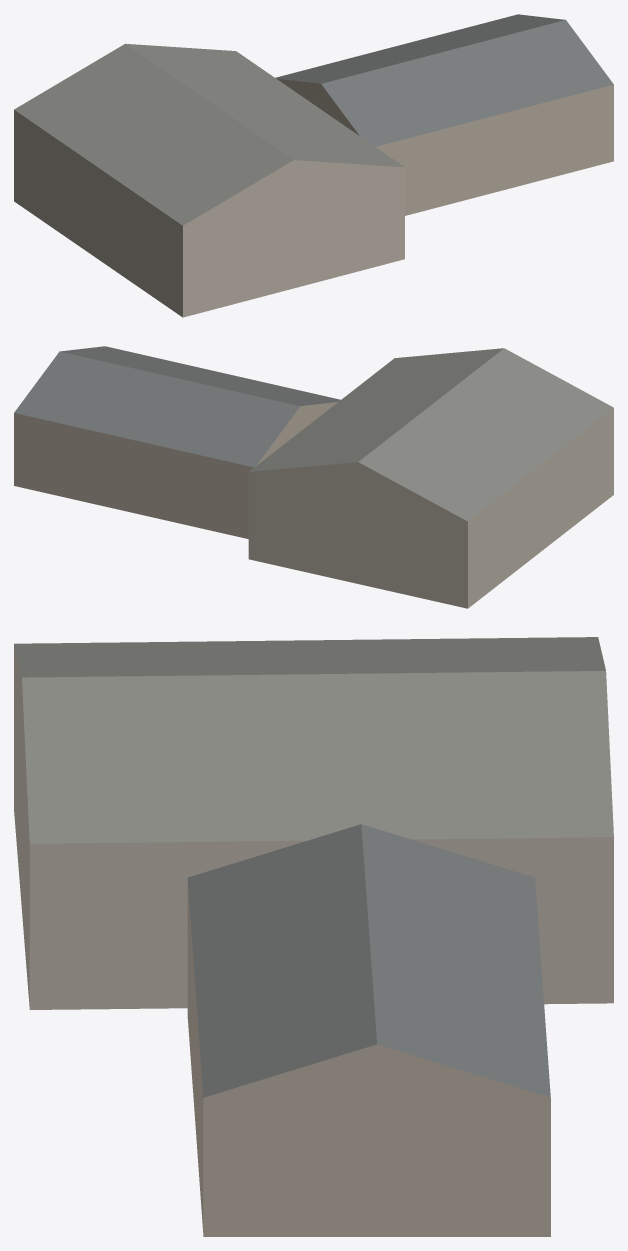
The model's file is 6d154fba07d8-chunk-1202_11843.glb.
The picture shows the model from 3 angles, top to bottom: view 1: azimuth 30°, elevation 25°; view 2: azimuth 150°, elevation 25°; view 3: azimuth 270°, elevation 25°; orthographic projection. The views are drawn at different scales.
Visible parts, largest first — view 1: building_48681, building_23341; view 2: building_48681, building_23341; view 3: building_48681, building_23341.
Boxes of the visible parts, <box> form: building_48681: <box>14,43,404,317</box>; building_23341: <box>275,14,613,215</box>; building_48681: <box>248,348,613,608</box>; building_23341: <box>14,346,340,538</box>; building_48681: <box>14,637,613,1009</box>; building_23341: <box>187,824,550,1236</box>.
Size of the model in its own units: 29.26 by 7.31 by 17.1.
